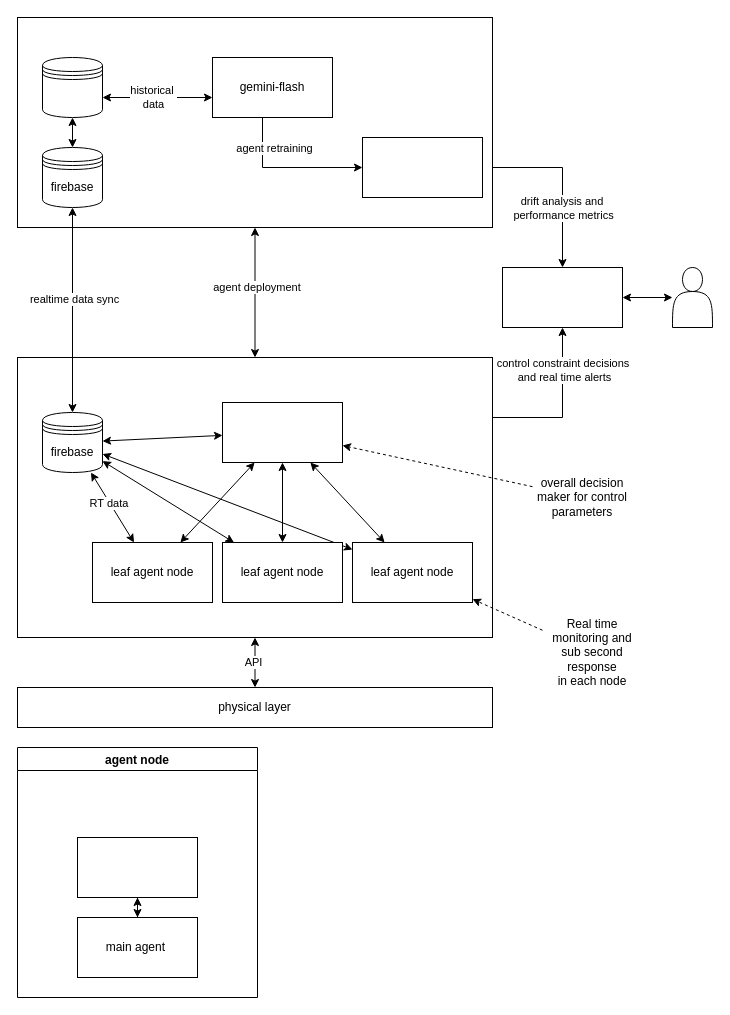
The diagram is 730 pixels wide and 1015 high, and some of its shapes have lost their labels. The shapes that lost their labels are listed below. From the top down, each one's centre as x and y in pixels, then its label:
the point at 72,87: big query
the point at 422,167: agent builder
the point at 562,297: interface
the point at 282,432: main agent node
the point at 137,867: embeddings generator
